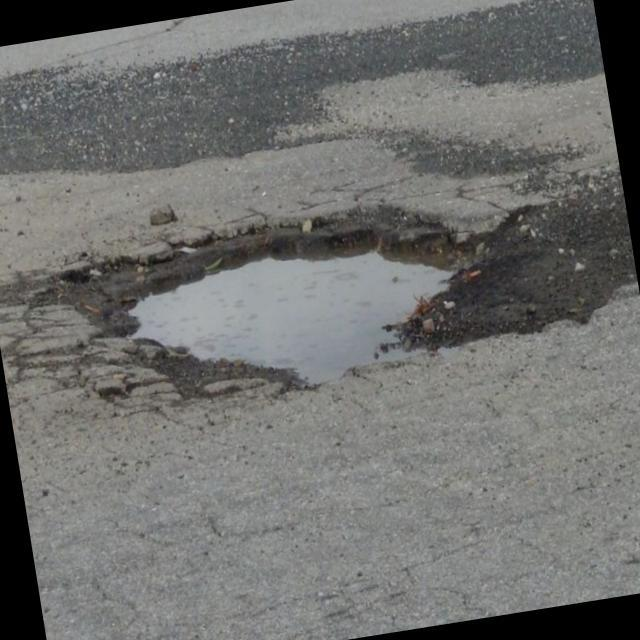Pothole: (73, 182, 491, 440)
